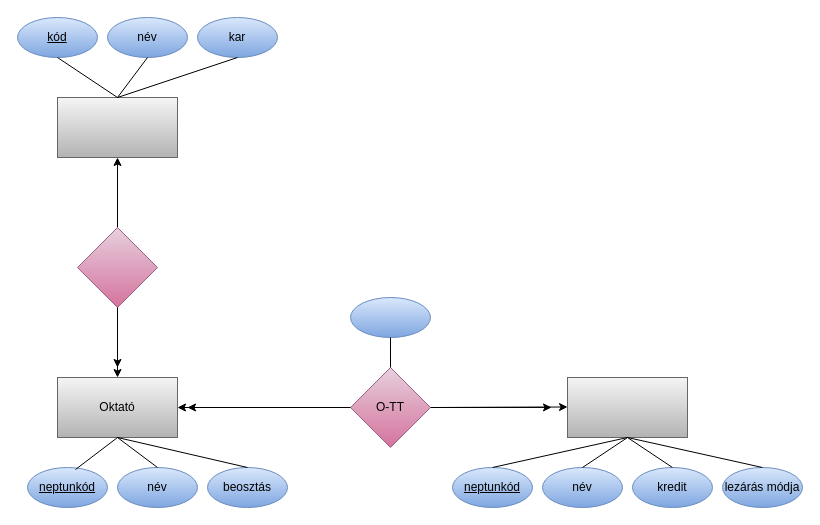
This 820x525 diagram has some shape labels left out. Here are the shapes that lost their labels. From the top down, the centre of each, then its label:
At [117,127]: "Tanszék".
At [117,267]: "TSZ-O".
At [390,317]: "tanév/félév".
At [627,407]: "Tantárgy".
